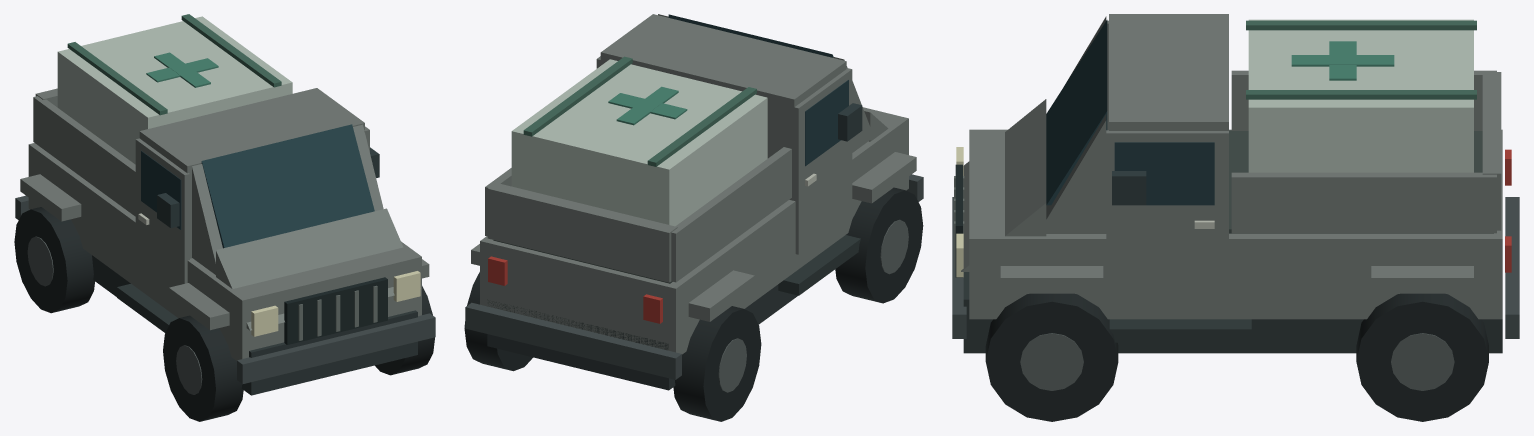
Rendered from CMU3DReduxAU14VehicleCivMedTruck.glb.
3 renders of one model, left to right at view 1: azimuth 30°, elevation 25°; view 2: azimuth 150°, elevation 25°; view 3: azimuth 270°, elevation 25°, orthographic. The views are drawn at different scales.
Visible parts, largest first — view 1: medical supply chest, lower vehicle body, windshield, rubber road tire (×3), cab bulkhead, front hood, bed side wall, cab door skin, bumper, sealed chassis, front grille, wheel fender (×2) (+9 smaller); view 2: medical supply chest, lower vehicle body, rubber road tire (×3), cab bulkhead, tailgate, bed side wall, cab door skin, bumper, sealed chassis, wheel fender (×2), medical case clamp (×2), recessed metal wheel hub (×2) (+8 smaller); view 3: lower vehicle body, medical supply chest, rubber road tire (×2), bed side wall (×2), cab door skin, cab bulkhead, sealed chassis, windshield, front hood, wheel fender (×2), recessed metal wheel hub (×2), side window (+10 smaller).
Boxes of the visible parts, <box> form: medical supply chest: <box>57,16,292,164</box>; lower vehicle body: <box>28,143,421,360</box>; windshield: <box>201,124,374,248</box>; rubber road tire (×3): <box>14,207,434,421</box>; cab bulkhead: <box>139,88,364,258</box>; front hood: <box>216,208,420,330</box>; bed side wall: <box>33,96,135,216</box>; cab door skin: <box>135,138,189,297</box>; bumper: <box>237,313,435,384</box>; sealed chassis: <box>92,255,417,395</box>; front grille: <box>284,277,387,344</box>; wheel fender (×2): <box>20,174,229,330</box>; medical supply chest: <box>511,59,767,226</box>; lower vehicle body: <box>480,107,908,354</box>; rubber road tire (×3): <box>464,187,923,421</box>; cab bulkhead: <box>600,14,846,200</box>; tailgate: <box>487,183,677,282</box>; bed side wall: <box>671,147,791,282</box>; cab door skin: <box>793,68,852,254</box>; bumper: <box>465,302,681,379</box>; sealed chassis: <box>487,284,797,390</box>; wheel fender (×2): <box>688,152,916,321</box>; medical case clamp (×2): <box>523,56,756,166</box>; recessed metal wheel hub (×2): <box>718,219,908,392</box>; lower vehicle body: <box>969,129,1502,319</box>; medical supply chest: <box>1248,19,1473,172</box>; rubber road tire (×2): <box>985,293,1488,421</box>; bed side wall (×2): <box>1231,70,1496,233</box>; cab door skin: <box>1106,130,1228,300</box>; cab bulkhead: <box>1109,14,1228,130</box>; sealed chassis: <box>963,272,1502,353</box>; windshield: <box>1046,20,1107,205</box>; front hood: <box>961,99,1046,271</box>; wheel fender (×2): <box>1000,266,1473,293</box>; recessed metal wheel hub (×2): <box>1020,333,1454,390</box>; side window: <box>1114,142,1214,205</box>.
Size of the model in its own units: 1.29 by 1.33 by 2.3.
